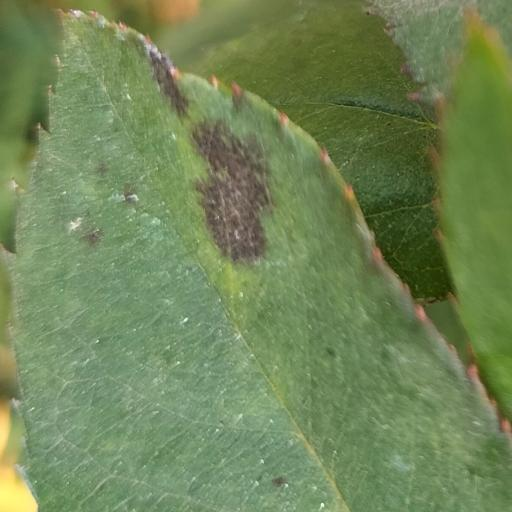black_spot: (11, 12, 512, 512)
